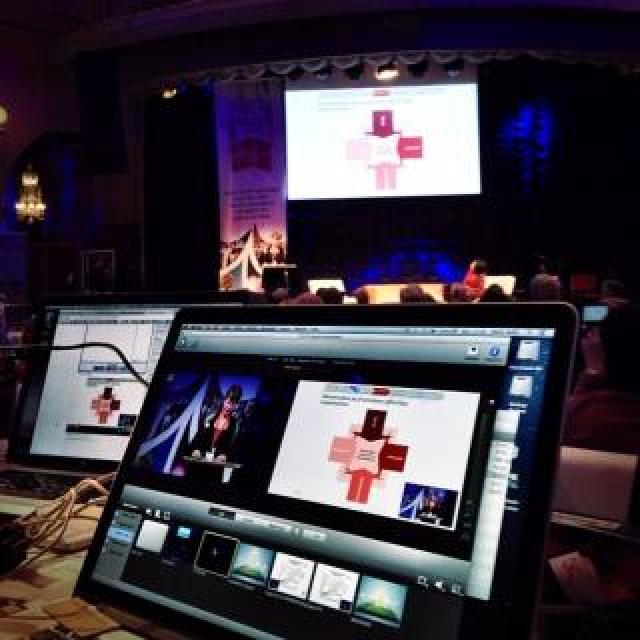laptop_computer: (100, 291, 584, 640), (22, 284, 138, 462)
